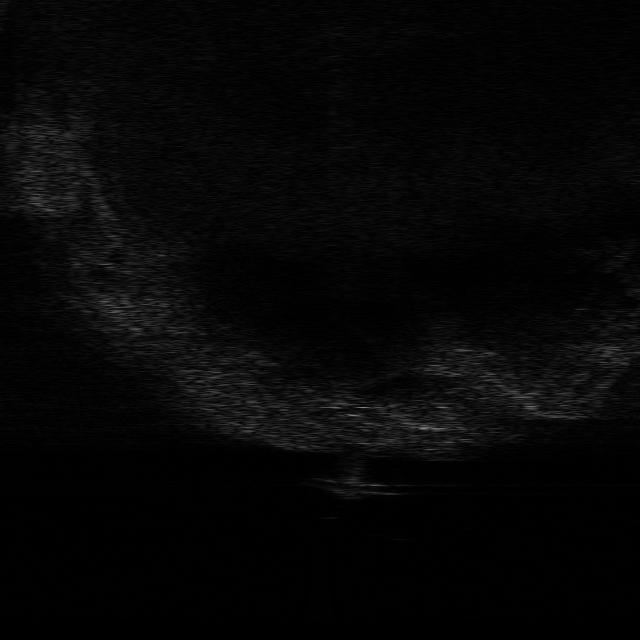plane: (303, 466, 412, 504)
